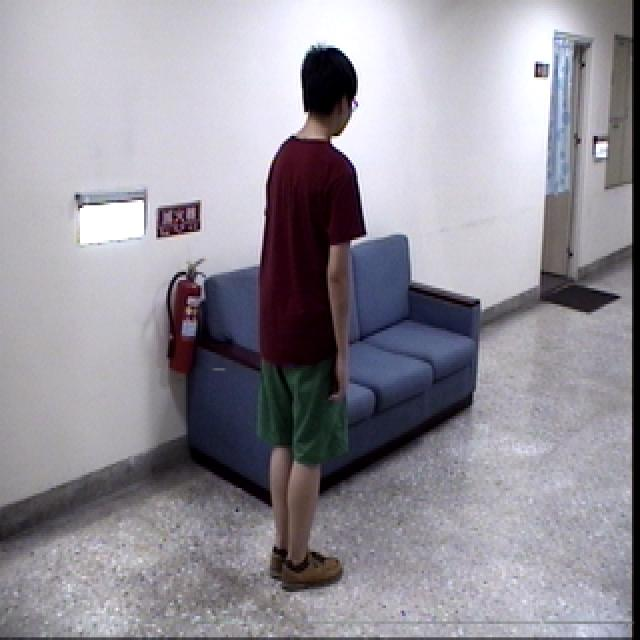stand: (237, 35, 383, 607)
